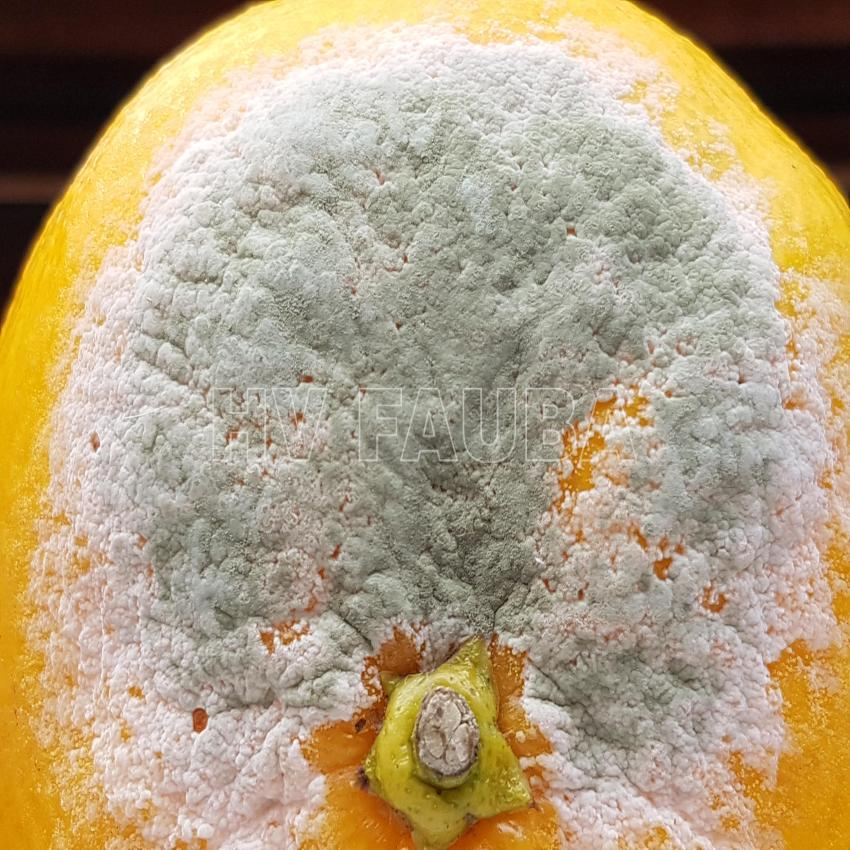Mal estado: (2, 0, 850, 850)
